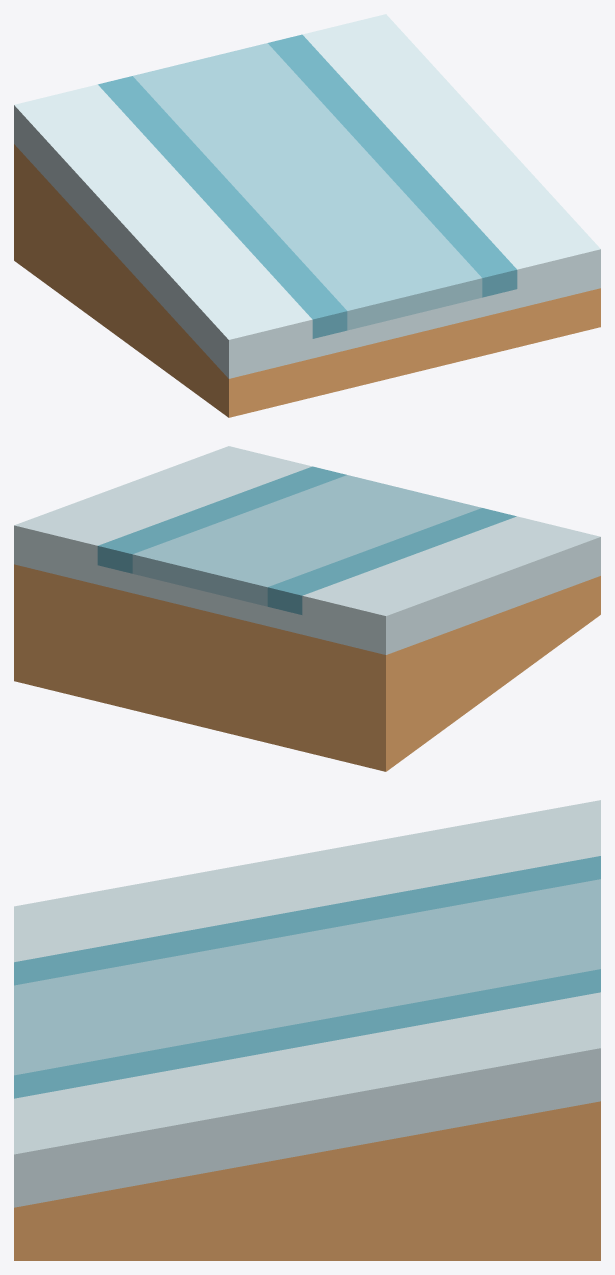
Rendered from snow_tile_straightHill(+).fbx.
3 renders of one model, top to bottom at view 1: azimuth 30°, elevation 25°; view 2: azimuth 150°, elevation 25°; view 3: azimuth 270°, elevation 25°, orthographic. The views are drawn at different scales.
Visible parts, largest first — view 1: Mesh_1; view 2: Mesh_1; view 3: Mesh_1.
Boxes of the visible parts, <box> form: Mesh_1: <box>14,14,600,417</box>; Mesh_1: <box>14,446,600,771</box>; Mesh_1: <box>14,800,600,1260</box>.
Bounding box in the file's own units: 100 × 40 × 100.
